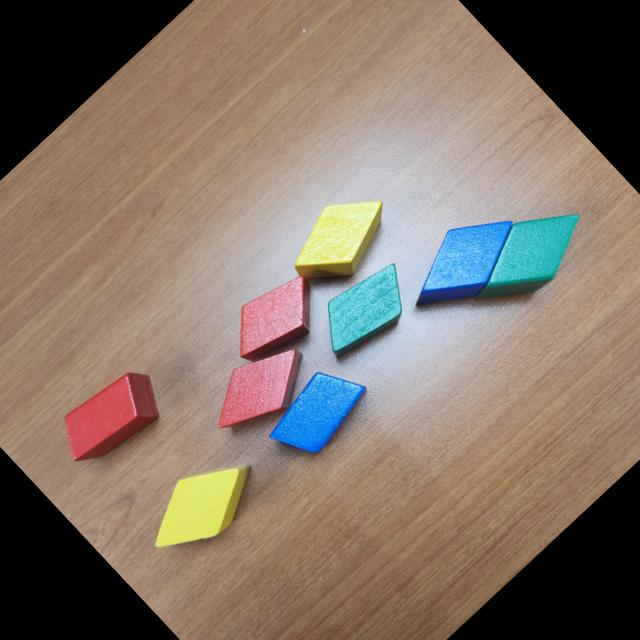blue: (393, 193, 533, 330), (258, 354, 378, 472)
green: (456, 187, 600, 327), (304, 252, 426, 372)
red: (195, 326, 325, 454), (49, 354, 177, 480), (217, 261, 334, 376)
yellow: (132, 436, 272, 572), (278, 175, 407, 302)
